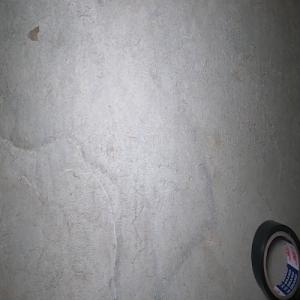Tape: (251, 219, 300, 300)
